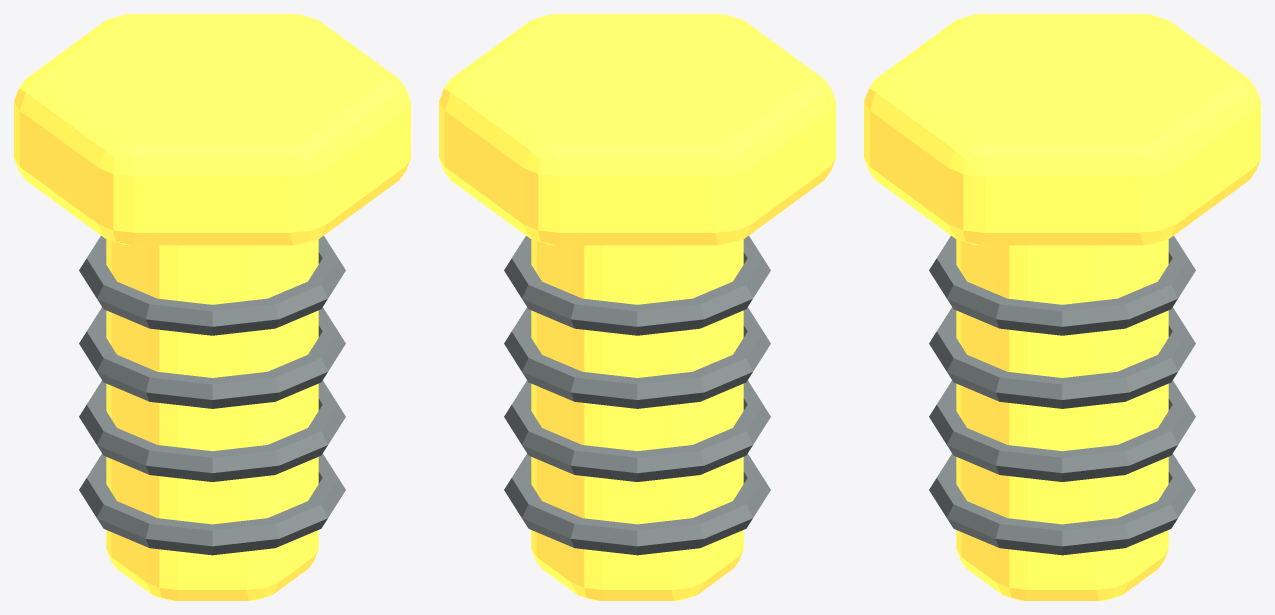
Rendered from Find_LuckyBolt.glb.
3 views of the same model, side by side, from view 1: azimuth 30°, elevation 25°; view 2: azimuth 150°, elevation 25°; view 3: azimuth 270°, elevation 25° (orthographic).
Visible parts, largest first — view 1: Find_LuckyBolt, Find_LuckyBolt_Head; view 2: Find_LuckyBolt, Find_LuckyBolt_Head; view 3: Find_LuckyBolt, Find_LuckyBolt_Head.
Part boxes in pixels (<box>): Find_LuckyBolt: <box>79,236,345,600</box>; Find_LuckyBolt_Head: <box>14,14,410,245</box>; Find_LuckyBolt: <box>504,236,770,600</box>; Find_LuckyBolt_Head: <box>439,14,835,245</box>; Find_LuckyBolt: <box>929,236,1195,600</box>; Find_LuckyBolt_Head: <box>864,14,1260,245</box>.
Size of the model in its own units: 0.5716 by 0.87 by 0.6391.
